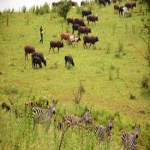Animal: (61, 111, 93, 130), (31, 101, 56, 124), (121, 125, 142, 150), (94, 120, 113, 147), (59, 31, 81, 45), (32, 51, 48, 68), (83, 35, 100, 51), (48, 40, 67, 53), (70, 18, 86, 31), (23, 45, 36, 60), (63, 54, 76, 67), (86, 14, 101, 25), (77, 27, 92, 35)
Uncultivated: (7, 12, 147, 150)
